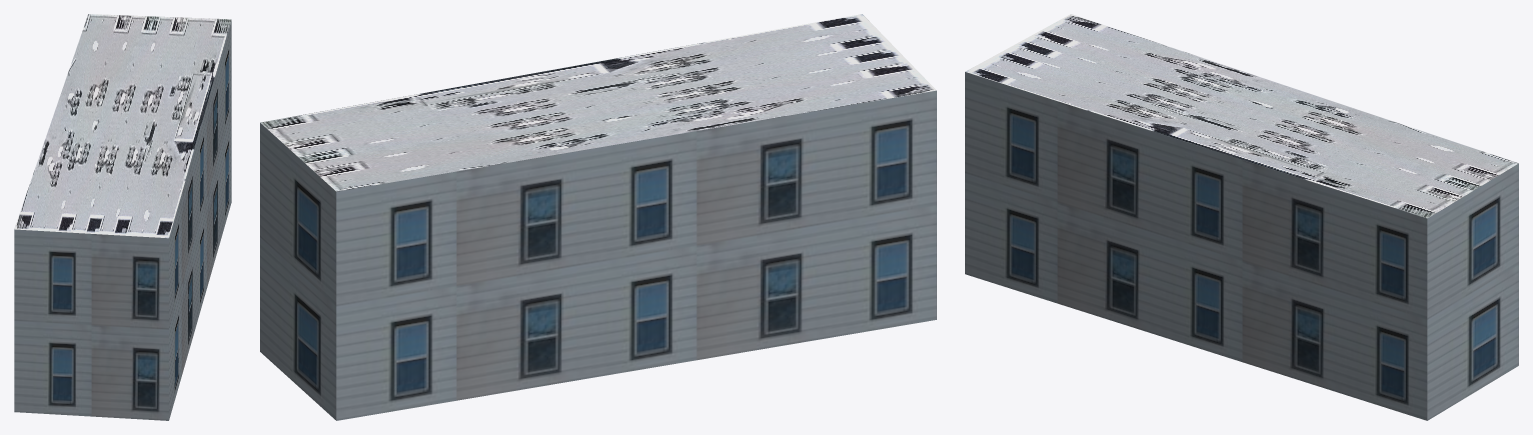
File: ResTex__3964.fbx
3 renders of one model, left to right at view 1: azimuth 30°, elevation 25°; view 2: azimuth 150°, elevation 25°; view 3: azimuth 270°, elevation 25°, orthographic. The views are drawn at different scales.
Parts seen in each view (by area): view 1: CityEngineMaterial_18_m, CityEngineMaterial_m; view 2: CityEngineMaterial_18_m, CityEngineMaterial_m; view 3: CityEngineMaterial_18_m, CityEngineMaterial_m.
Boxes of the visible parts, x1,y1,x2,y2 form: CityEngineMaterial_18_m: [14, 20, 231, 420]; CityEngineMaterial_m: [14, 14, 231, 238]; CityEngineMaterial_18_m: [260, 90, 936, 420]; CityEngineMaterial_m: [260, 14, 936, 191]; CityEngineMaterial_18_m: [965, 72, 1518, 420]; CityEngineMaterial_m: [965, 14, 1518, 218].
Bounding box in the file's own units: 13.01 × 6 × 14.88.
2 materials, 2 textured.
